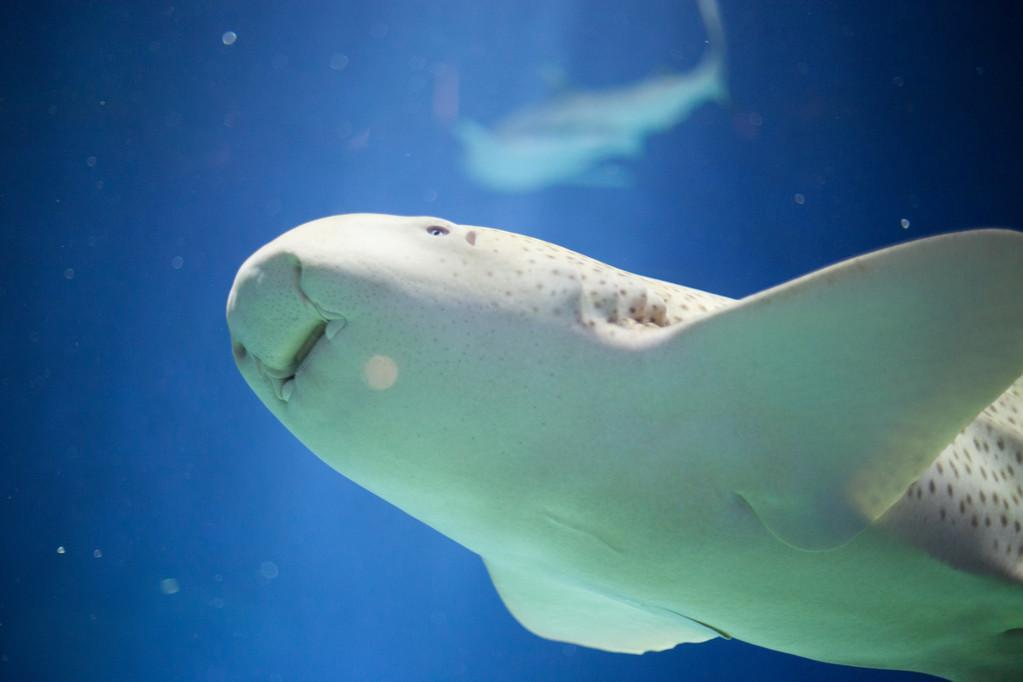fish: (206, 205, 1023, 680)
